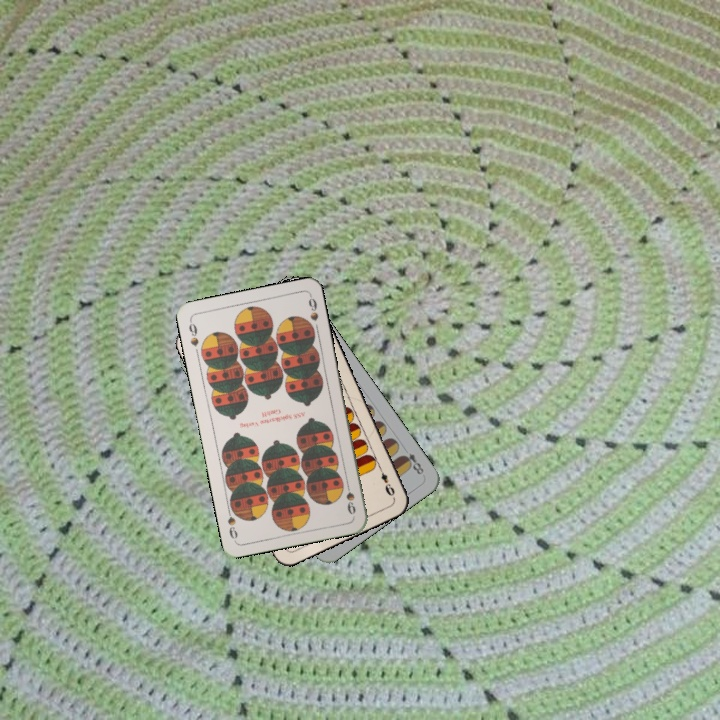E8: (397, 449, 426, 477)
E9: (374, 462, 397, 500)
S9: (342, 477, 358, 517), (185, 316, 201, 349)
